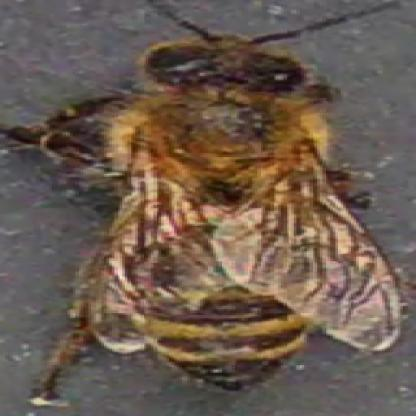bee: (95, 29, 350, 386)
